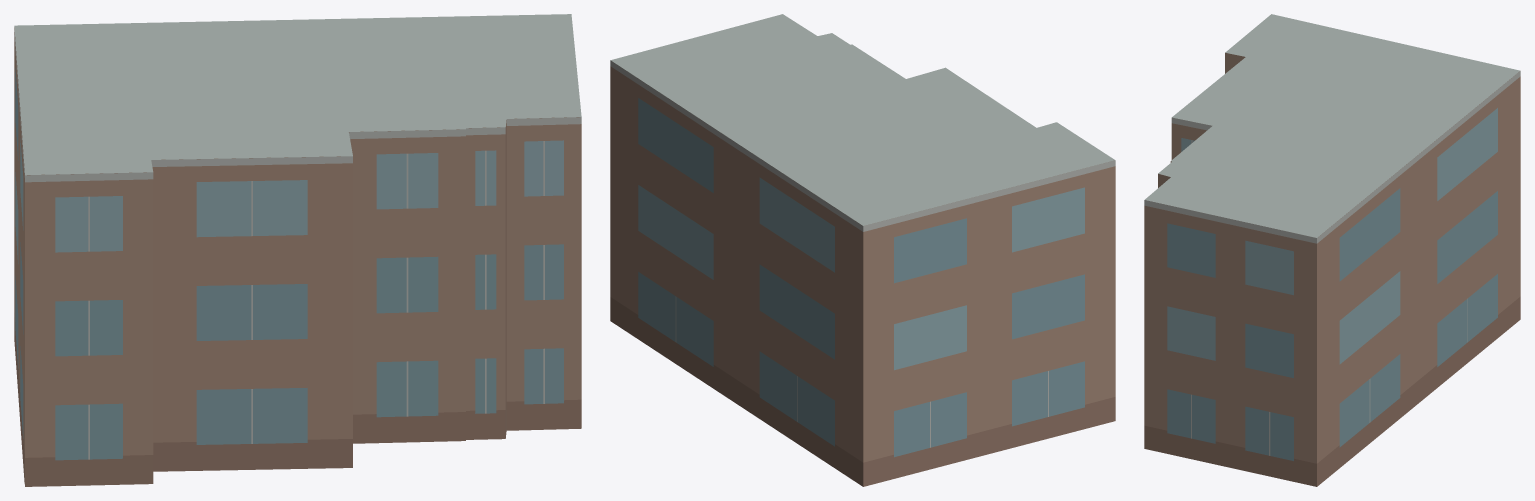
The model's file is survey-upis-32525229.glb.
3 views of the same model, side by side, from view 1: azimuth 30°, elevation 25°; view 2: azimuth 150°, elevation 25°; view 3: azimuth 270°, elevation 25° (orthographic). The views are drawn at different scales.
Parts seen in each view (by area): view 1: survey-upis-32525229.tmp; view 2: survey-upis-32525229.tmp; view 3: survey-upis-32525229.tmp.
Boxes of the visible parts, bbox=[...] form: survey-upis-32525229.tmp: bbox=[14, 14, 581, 486]; survey-upis-32525229.tmp: bbox=[610, 14, 1115, 486]; survey-upis-32525229.tmp: bbox=[1144, 14, 1520, 486].
Size of the model in its own units: 20.57 by 10.65 by 14.6.
